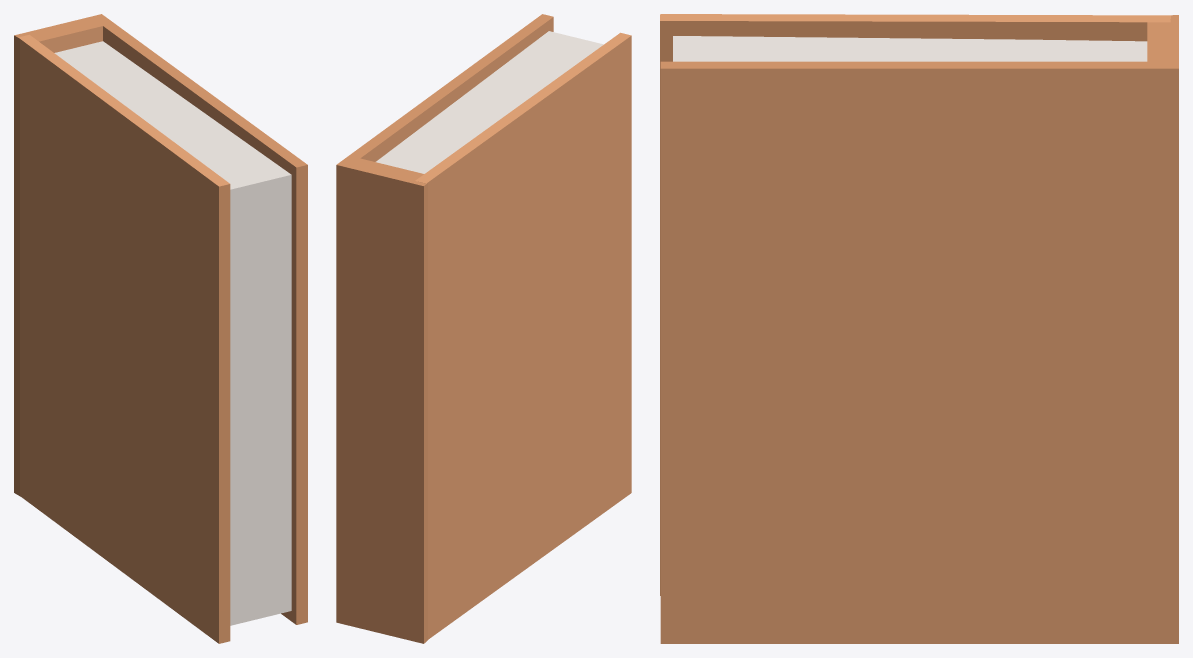
The model's file is hidden book.fbx.
3 renders of one model, left to right at view 1: azimuth 30°, elevation 25°; view 2: azimuth 150°, elevation 25°; view 3: azimuth 270°, elevation 25°, orthographic. The views are drawn at different scales.
Parts seen in each view (by area): view 1: book cover, object book; view 2: book cover, object book; view 3: object book, book cover.
Boxes of the visible parts, x1,y1,x2,y2 form: book cover: (18,34,230,643); object book: (14,14,307,625); book cover: (415,32,631,639); object book: (336,14,603,643); object book: (660,15,1178,643); book cover: (660,14,1170,595).
Size of the model in its own units: 49.87 by 245 by 200.
2 materials, 2 textured.
